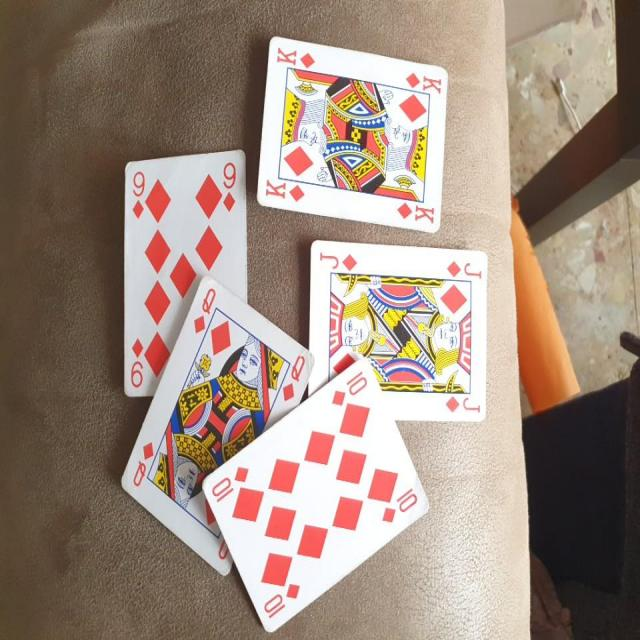10 Diamonds: (202, 352, 430, 631)
9 Diamonds: (121, 142, 248, 393)
J Diamonds: (308, 237, 490, 426)
K Diamonds: (254, 35, 451, 236)
Q Diamonds: (118, 274, 314, 581)
